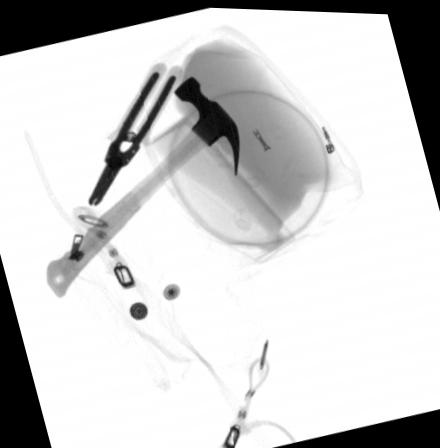Hammer: (45, 74, 241, 298)
Pliers: (88, 59, 184, 204)
